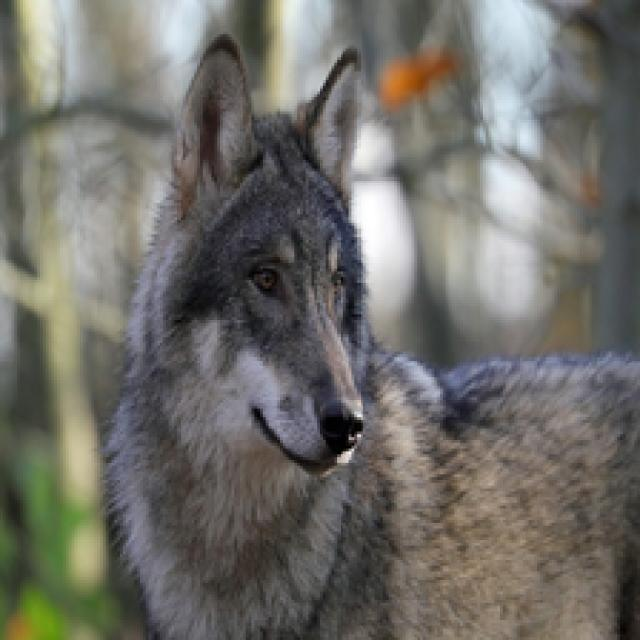wolf: (100, 14, 640, 640)
